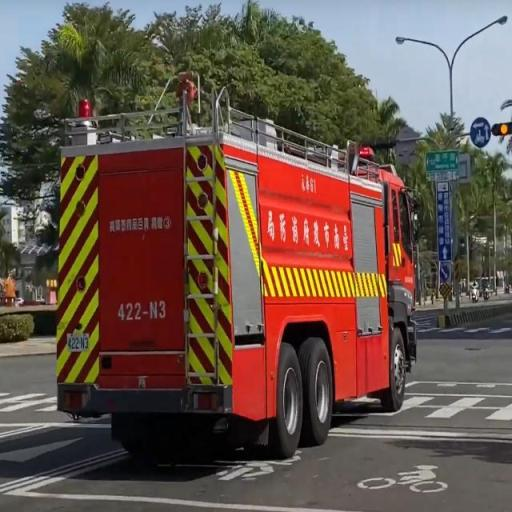fire truck: (57, 72, 416, 459)
